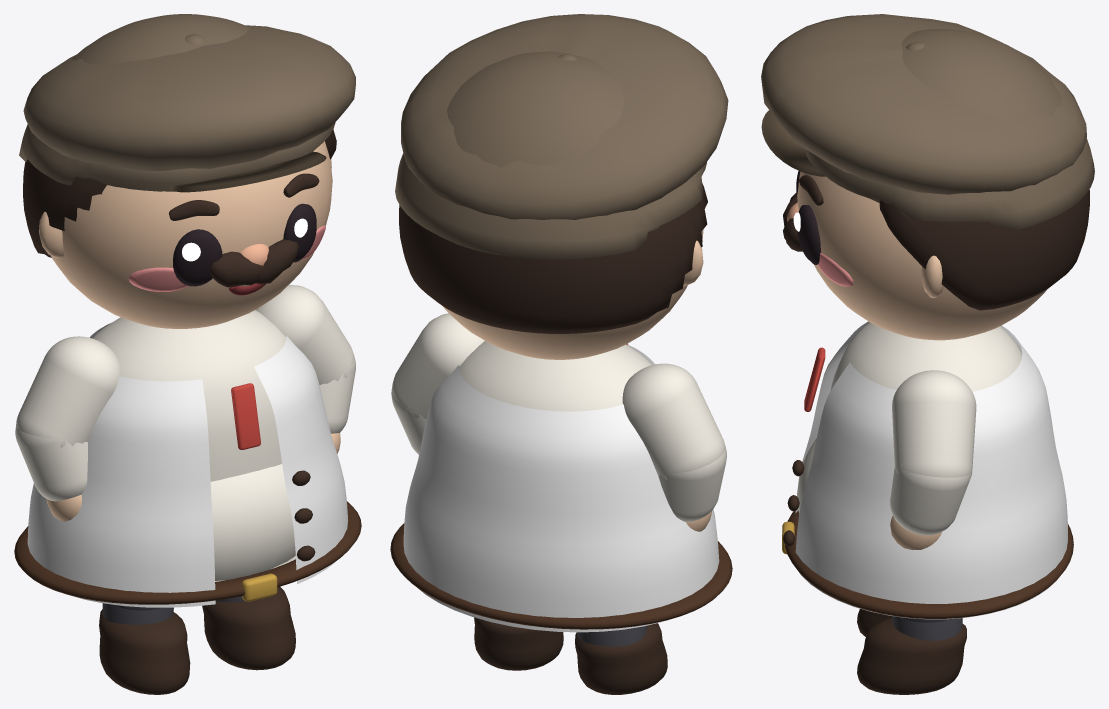
The model's file is npc_uncle.glb.
3 renders of one model, left to right at view 1: azimuth 30°, elevation 25°; view 2: azimuth 150°, elevation 25°; view 3: azimuth 270°, elevation 25°, orthographic.
Visible parts, largest first — view 1: head_body, spine_S_body, uarm_R, knee_R_S_body, knee_L_S_body, uarm_L, farm_R, head_eye_dot, farm_L, head_cheek_blush, head_brow_neutral, hand_R_S_body; view 2: head_body, spine_S_body, uarm_R, knee_R_S_body, uarm_L, knee_L_S_body, farm_R, farm_L; view 3: head_body, spine_S_body, uarm_L, knee_L_S_body, farm_L, head_eye_dot, hand_L_S_body, head_cheek_blush.
Part boxes in pixels (box(x1,y1,x2,y2)): head_body: box(19, 14, 355, 328); spine_S_body: box(14, 310, 361, 607); uarm_R: box(16, 336, 120, 447); knee_R_S_body: box(99, 603, 190, 694); knee_L_S_body: box(202, 587, 295, 670); uarm_L: box(255, 284, 354, 384); farm_R: box(15, 426, 87, 501); head_eye_dot: box(173, 203, 316, 286); farm_L: box(319, 358, 355, 433); head_cheek_blush: box(128, 225, 325, 291); head_brow_neutral: box(169, 173, 319, 220); hand_R_S_body: box(46, 495, 81, 521); head_body: box(395, 14, 728, 359); spine_S_body: box(390, 341, 732, 632); uarm_R: box(622, 363, 725, 479); knee_R_S_body: box(575, 623, 667, 694); uarm_L: box(392, 313, 484, 419); knee_L_S_body: box(474, 617, 563, 670); farm_R: box(658, 447, 726, 521); farm_L: box(391, 388, 426, 454); head_body: box(761, 14, 1094, 340); spine_S_body: box(782, 321, 1073, 619); uarm_L: box(892, 370, 976, 477); knee_L_S_body: box(857, 616, 966, 694); farm_L: box(890, 465, 972, 535); head_eye_dot: box(793, 171, 821, 264); hand_L_S_body: box(890, 516, 941, 549); head_cheek_blush: box(817, 253, 853, 286).
Size of what is drawn, in the model's own units: 0.7544 by 1.37 by 0.6724.
